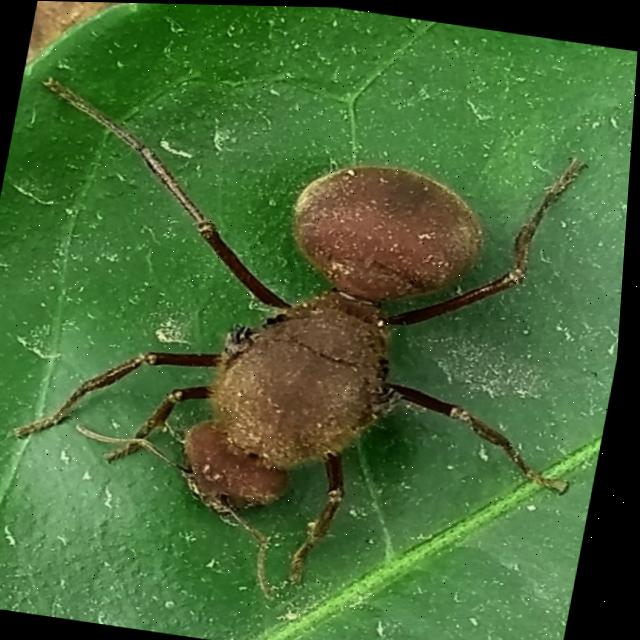Alive-Female-Dealate: (0, 71, 636, 613)
